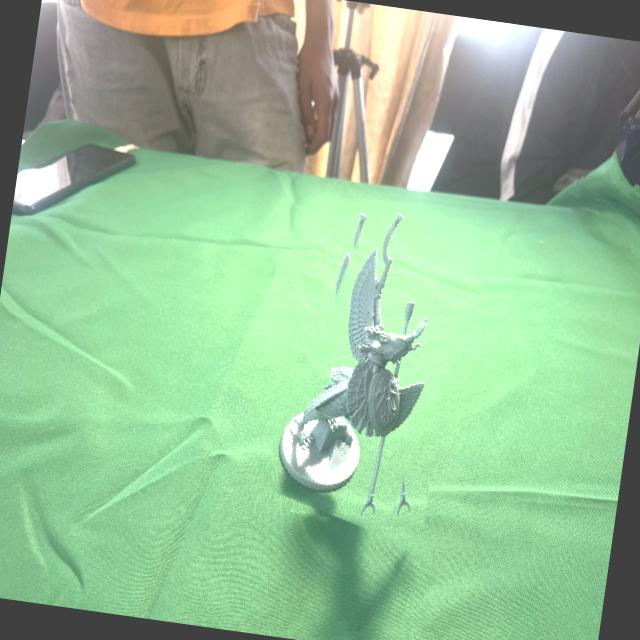isis: (273, 196, 485, 538)
